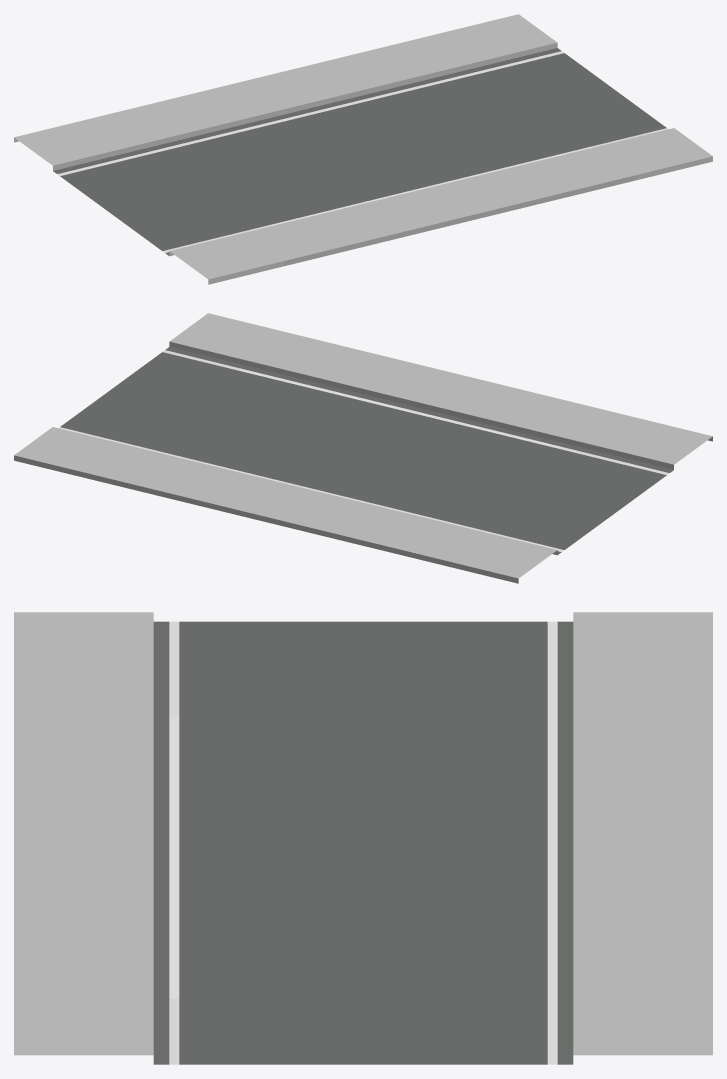
The model's file is straight.fbx.
The picture shows the model from 3 angles, top to bottom: view 1: azimuth 30°, elevation 25°; view 2: azimuth 150°, elevation 25°; view 3: azimuth 270°, elevation 25°; orthographic projection. The views are drawn at different scales.
Parts seen in each view (by area): view 1: Plane.001; view 2: Plane.001; view 3: Plane.001.
Part boxes in pixels (left/top/right/bottom): Plane.001: left=14, top=14, right=712, bottom=284; Plane.001: left=14, top=313, right=712, bottom=583; Plane.001: left=14, top=612, right=712, bottom=1064.
Size of the model in its own units: 15 by 0.15 by 10.
